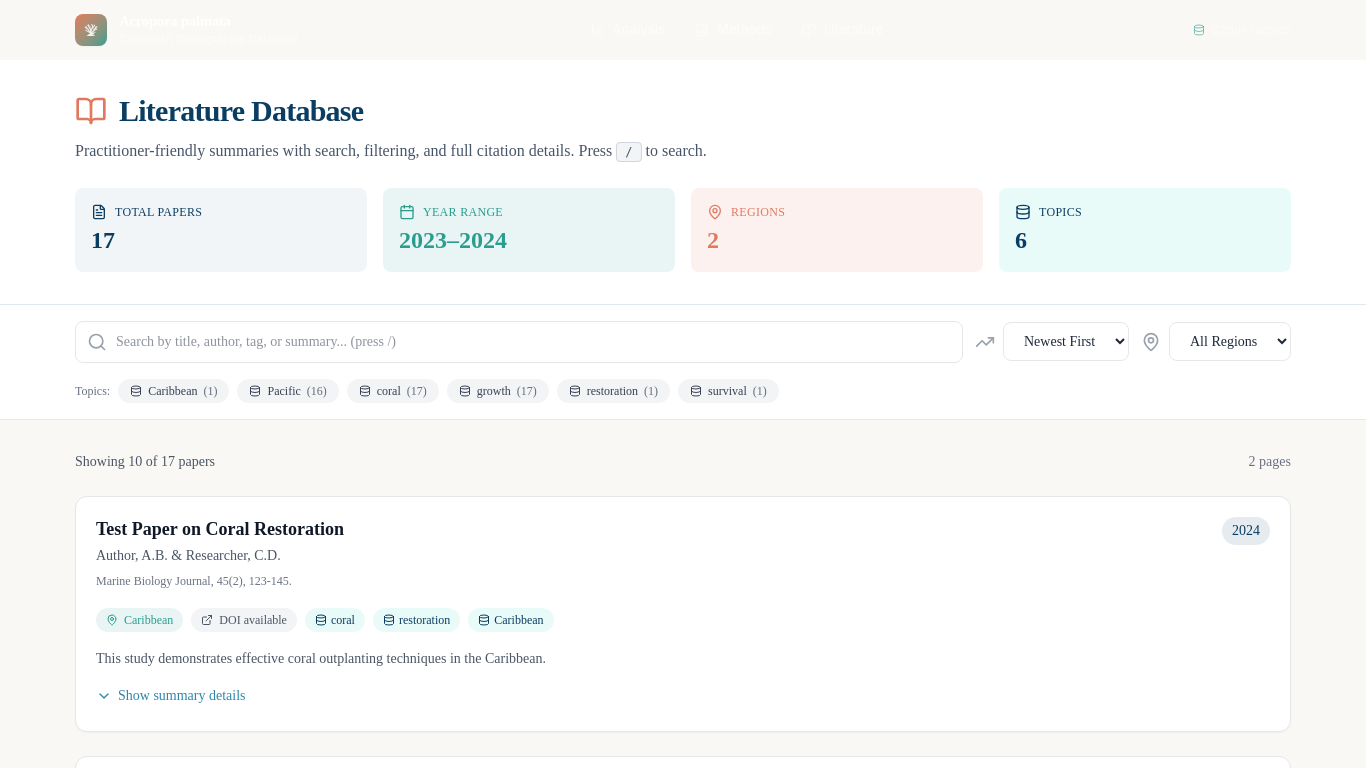
Test case: Literature Page Integration Tests › Search Functionality › should show "no results" when search matches nothing
Expected: the heading "Test Paper on Coral Restoration" is shown, top-left (96, 518), bottom-right (344, 538)
Step 1. Type "nonexistentterm" into the field named "Search publications" → (519, 342), box top-left (75, 320), bottom-right (963, 362)
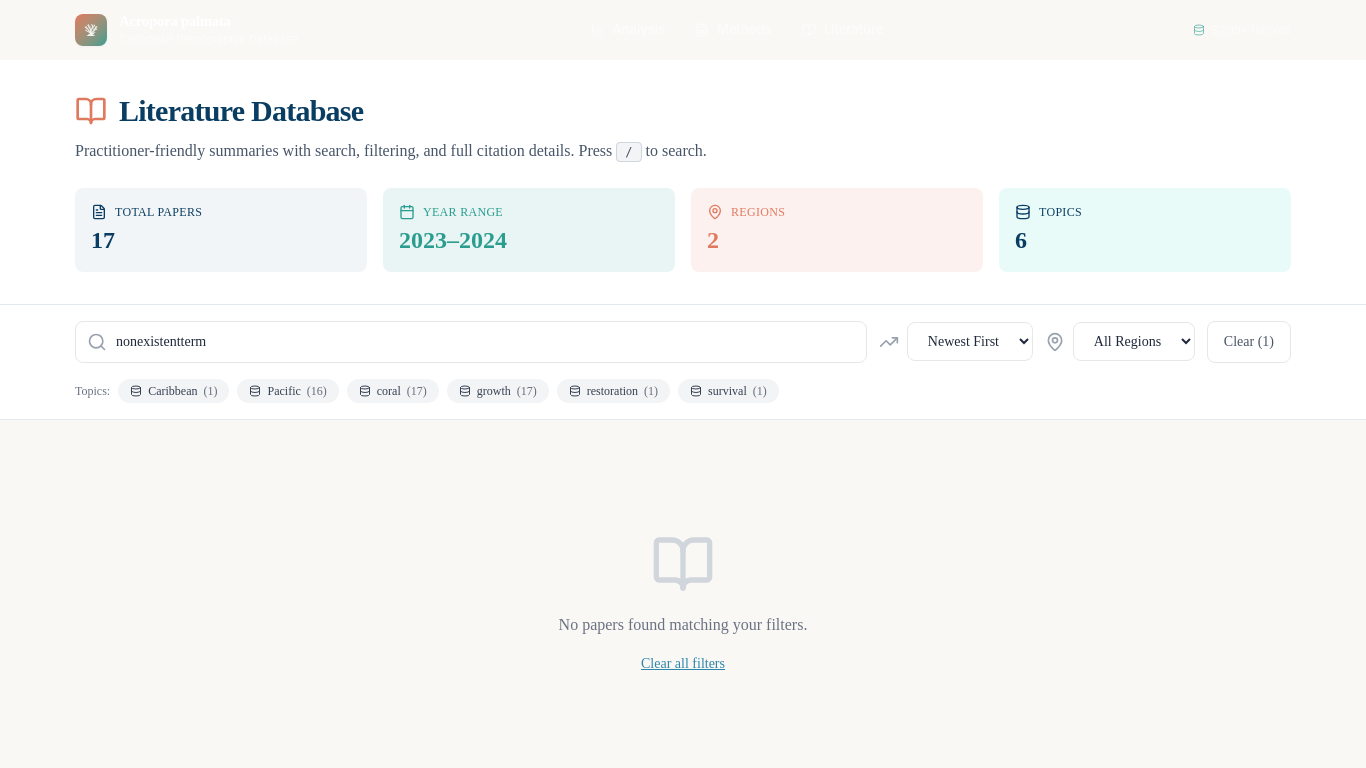
Now the text "No papers found matching your filters." is shown, box top-left (559, 616), bottom-right (807, 632)
